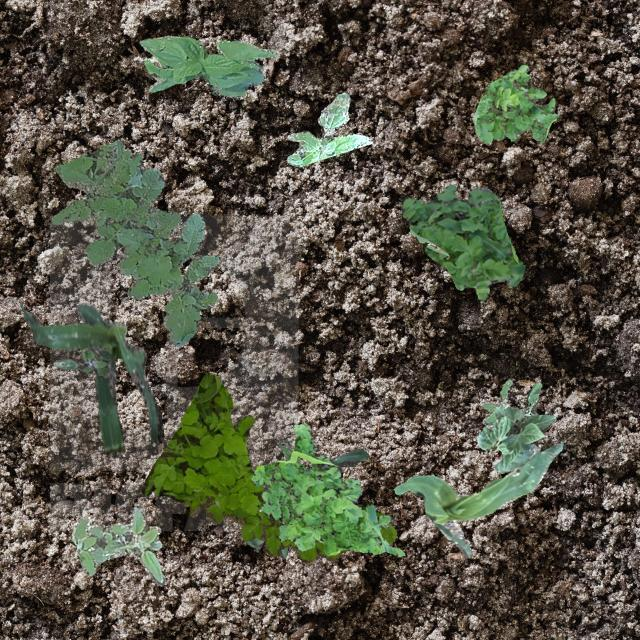crop: (22, 302, 164, 452), (392, 440, 562, 556), (244, 438, 366, 556), (138, 34, 276, 96), (476, 402, 554, 472)
weed: (140, 372, 396, 562), (51, 140, 218, 346), (251, 422, 404, 556), (399, 184, 524, 298), (70, 504, 164, 584), (472, 64, 558, 144), (286, 91, 372, 166), (482, 378, 540, 427), (54, 338, 110, 374)
